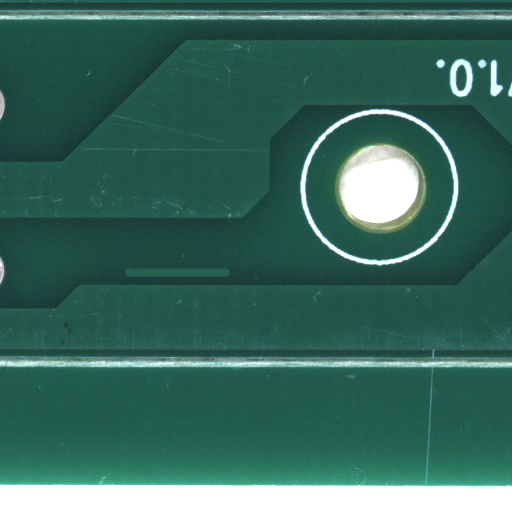Spurious_copper: (176, 271, 282, 284)
